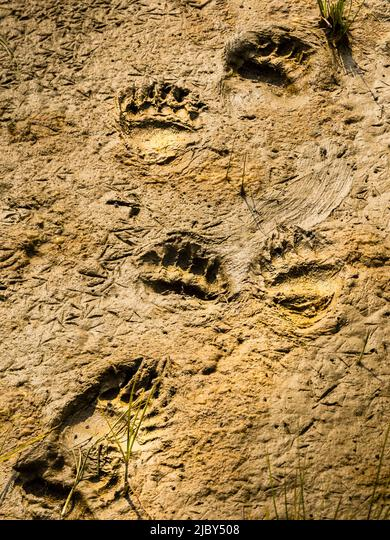bear: (240, 205, 359, 339), (99, 57, 211, 184), (110, 224, 252, 322), (70, 350, 180, 474), (220, 13, 326, 116)
